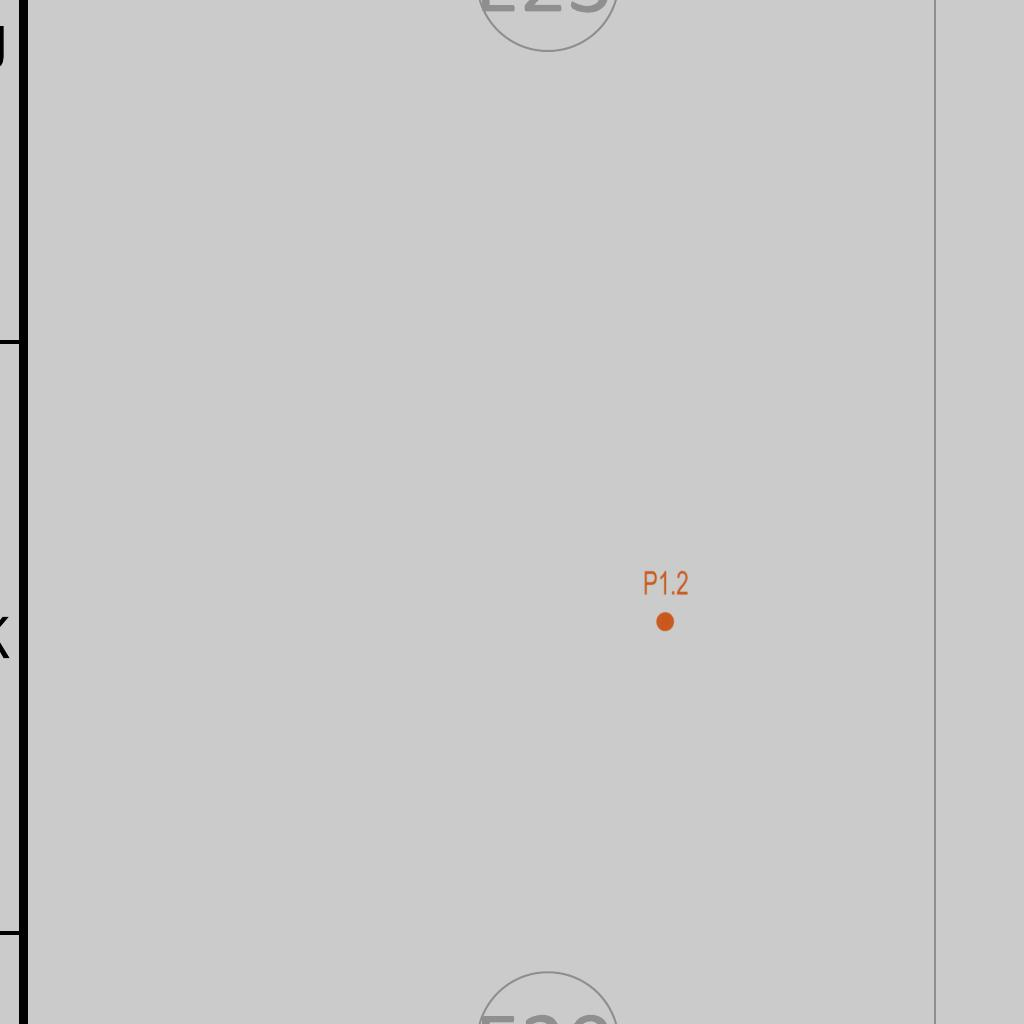Downlight_LED_Einbauleuchten_Flur: (643, 569, 689, 633)
